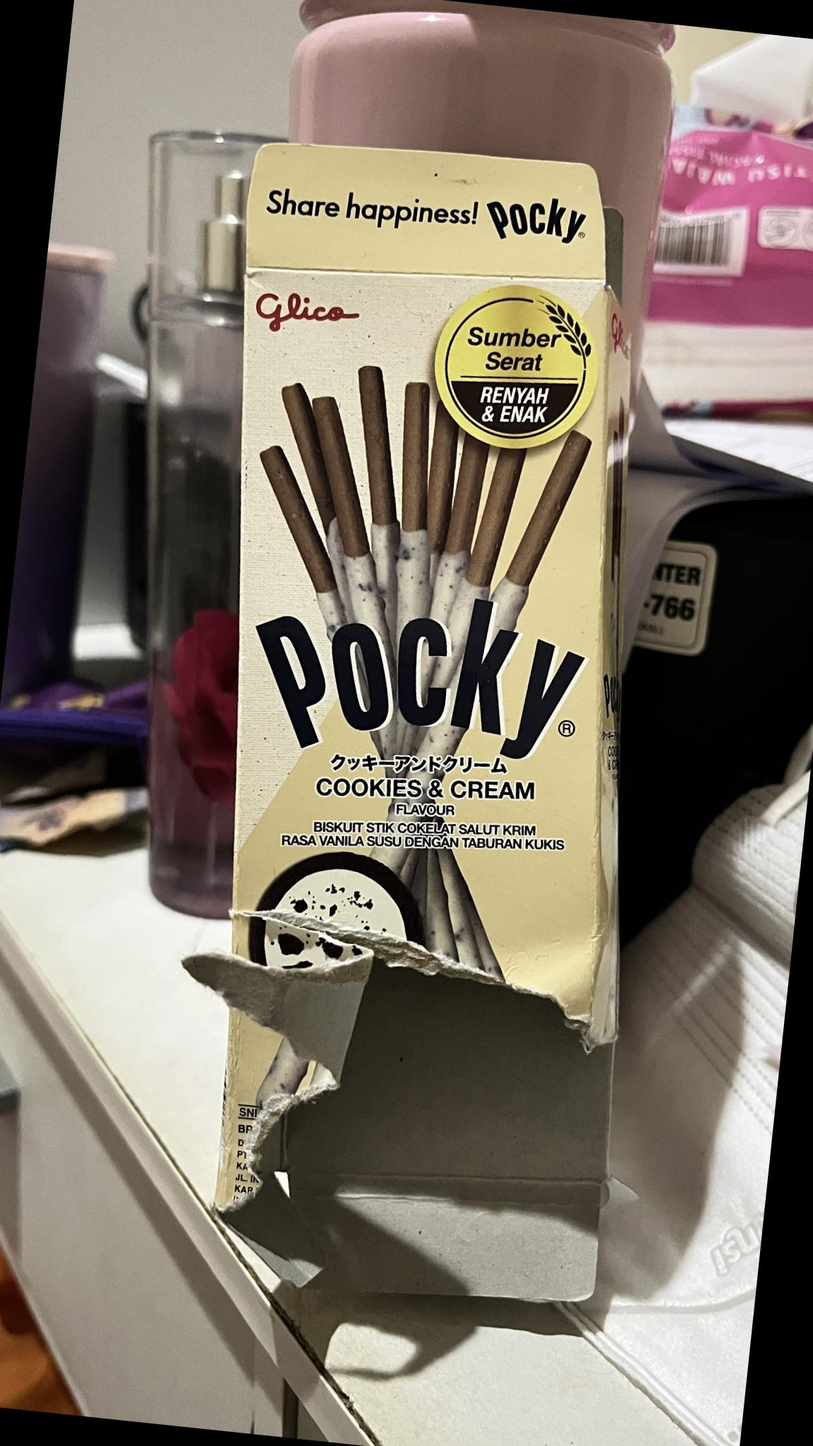Kertas: (215, 261, 616, 1186)
